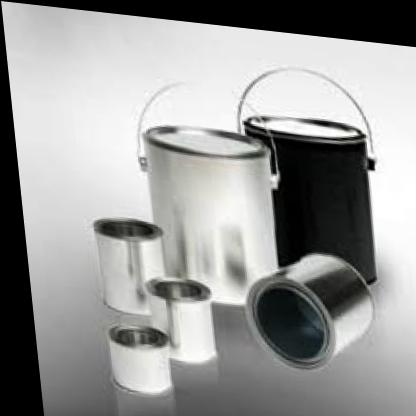Metal: (36, 34, 408, 416)
